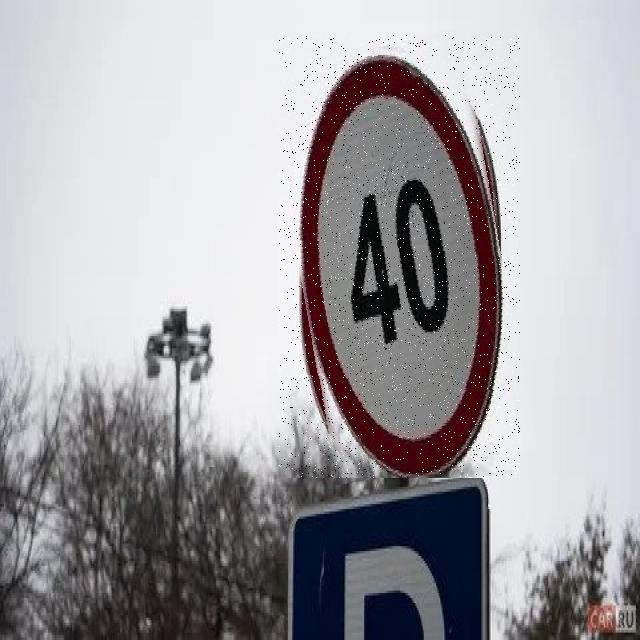speed limit 40: (279, 35, 520, 478)
